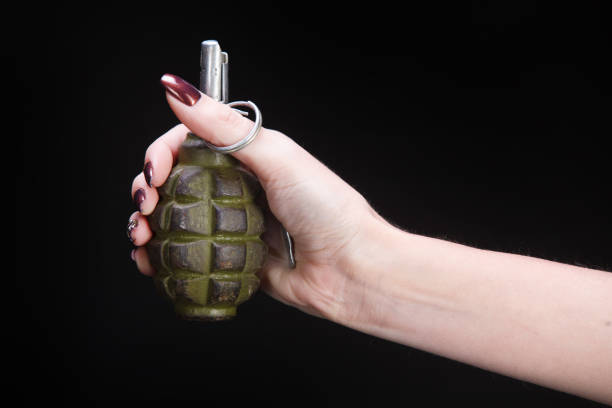e1: (149, 36, 294, 328)
